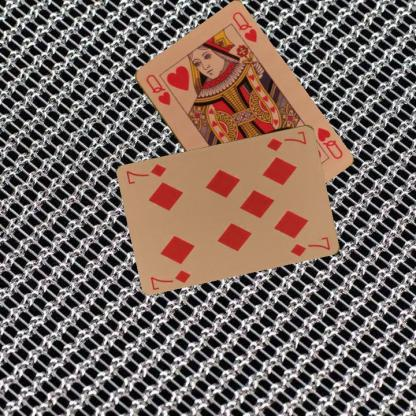7d: (264, 128, 308, 152), (148, 267, 192, 291)
Qh: (314, 124, 344, 160), (143, 71, 172, 107)
